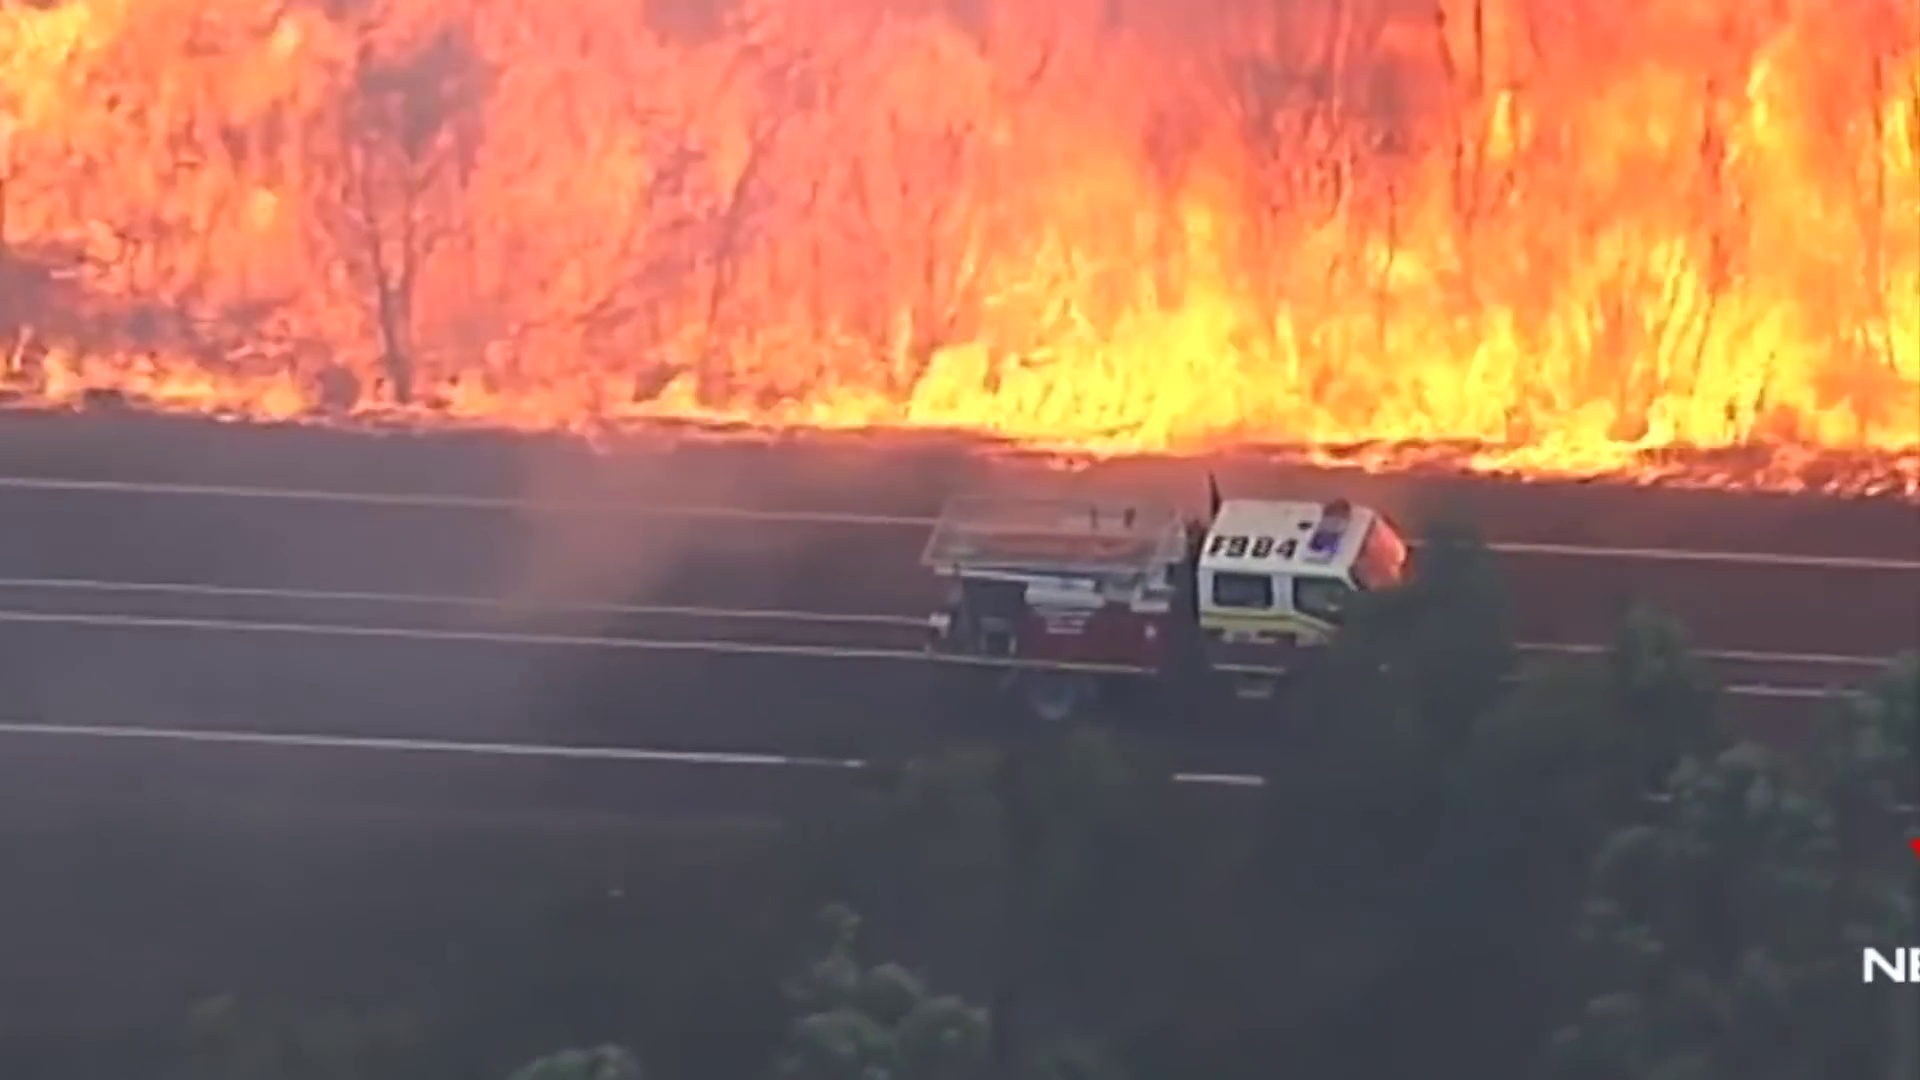fire: (582, 252, 1840, 473), (46, 352, 305, 413), (9, 12, 89, 98), (1747, 60, 1776, 151), (1889, 100, 1915, 165)
